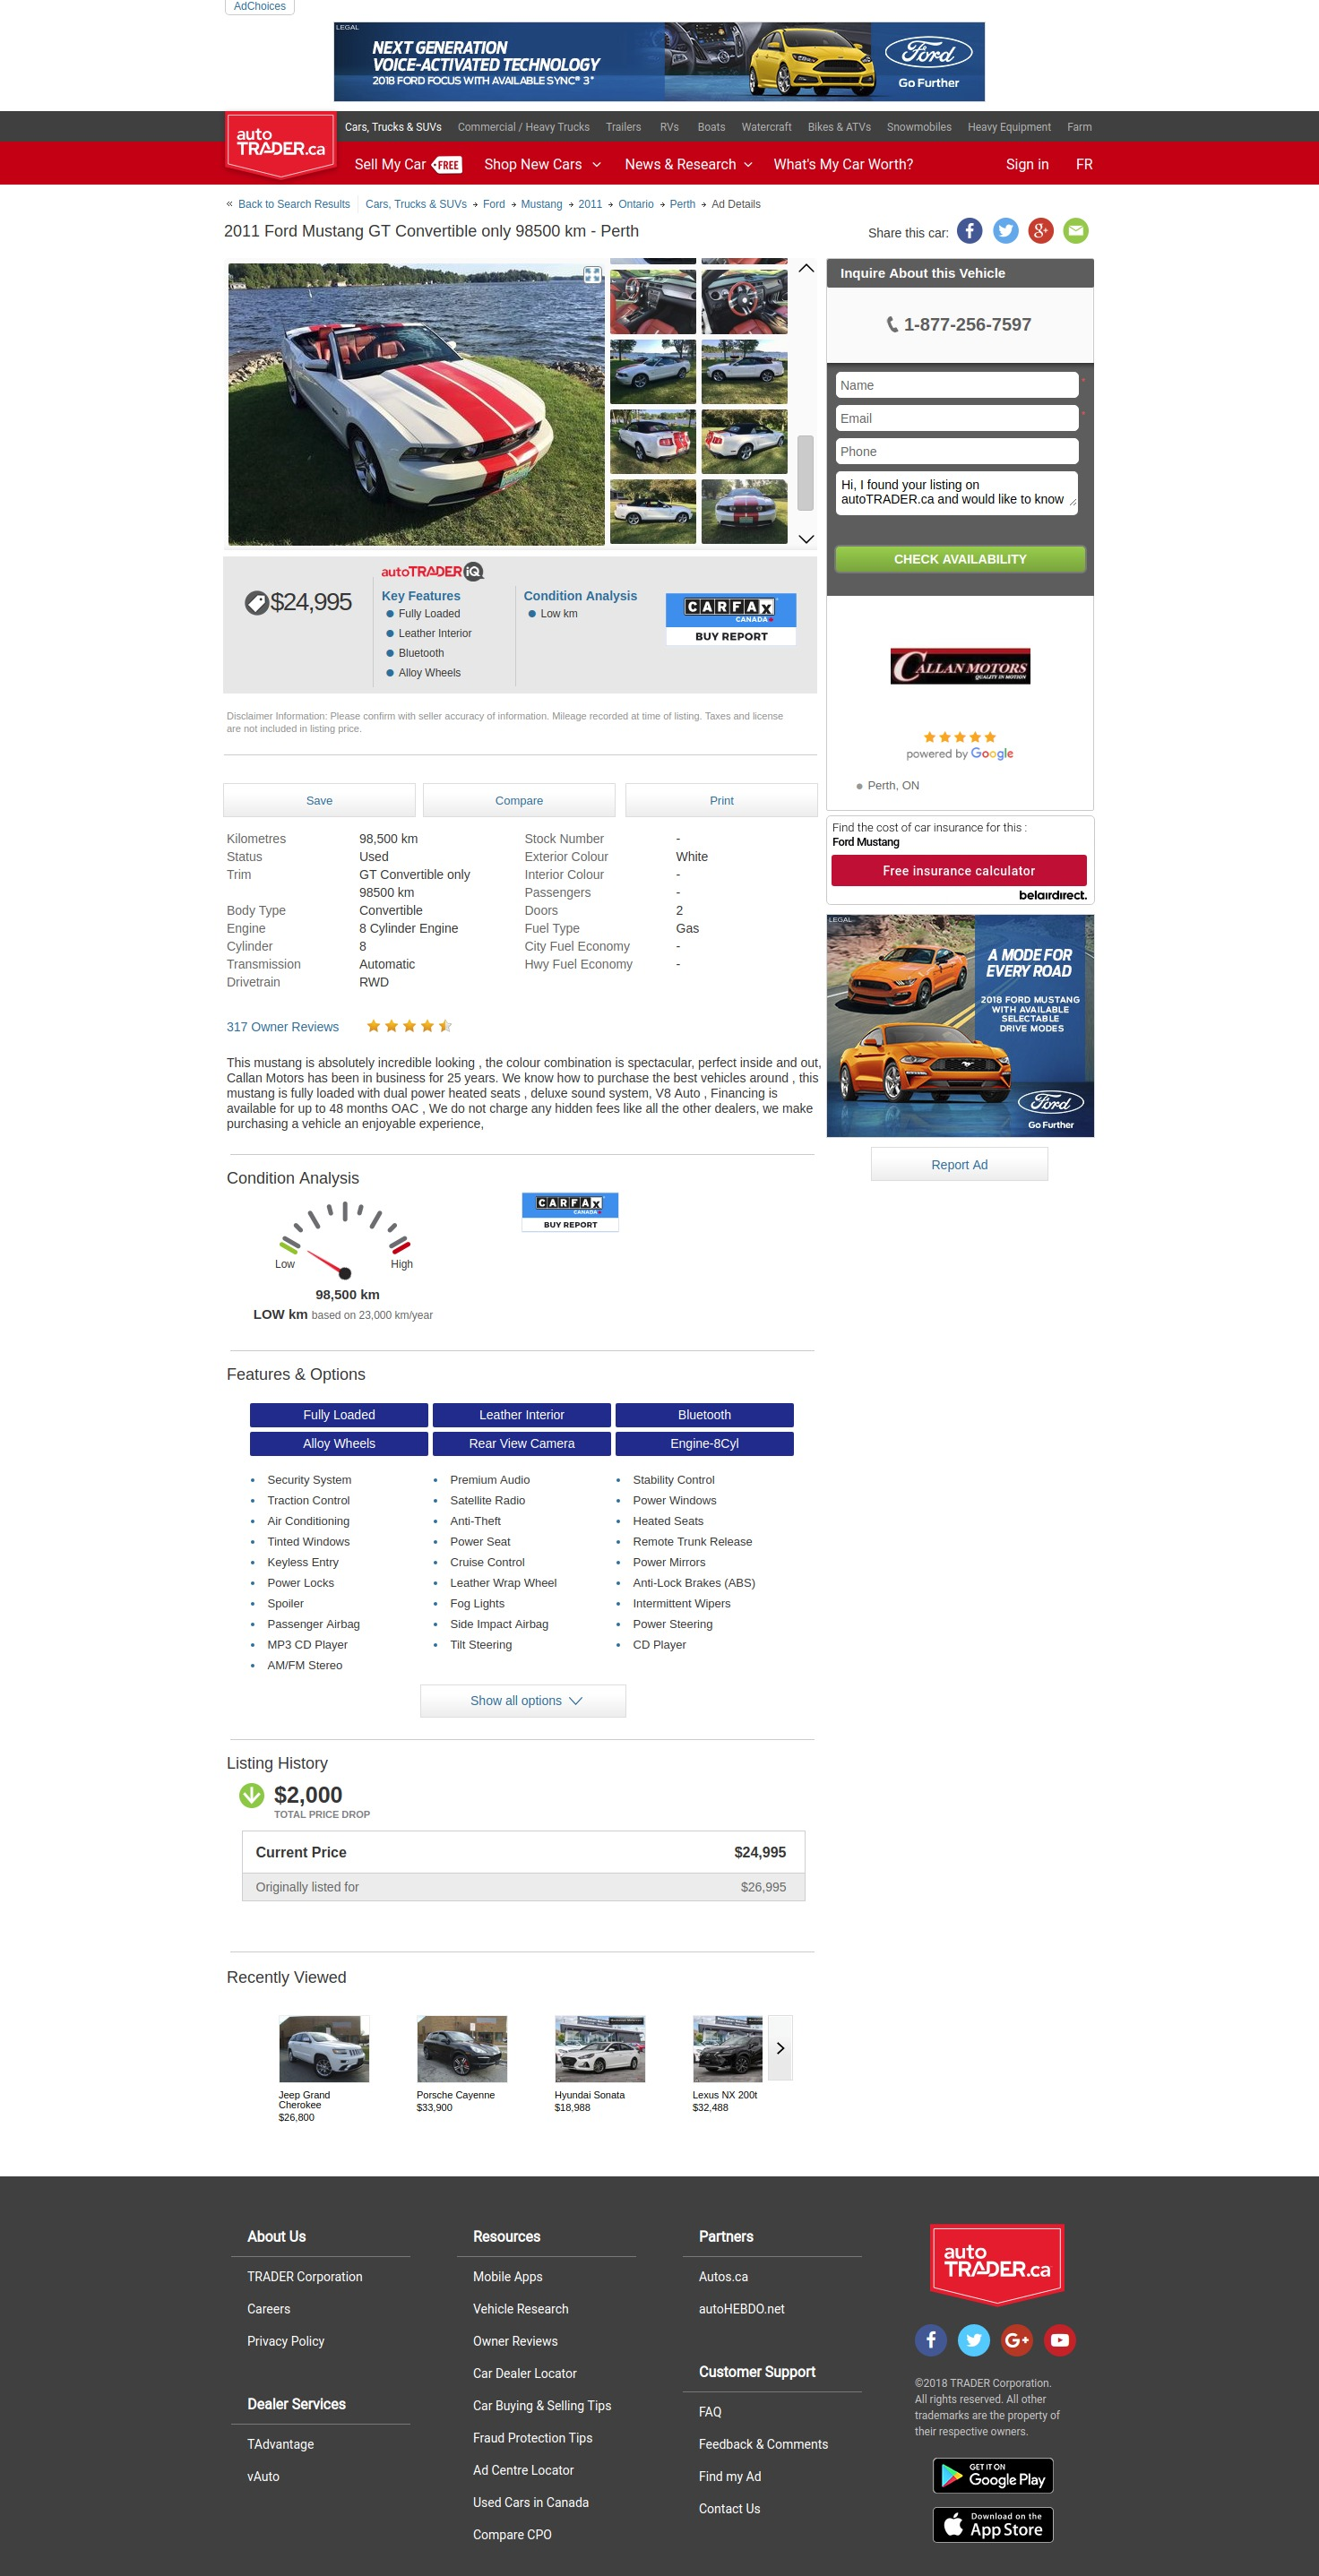car: (799, 535, 816, 546)
